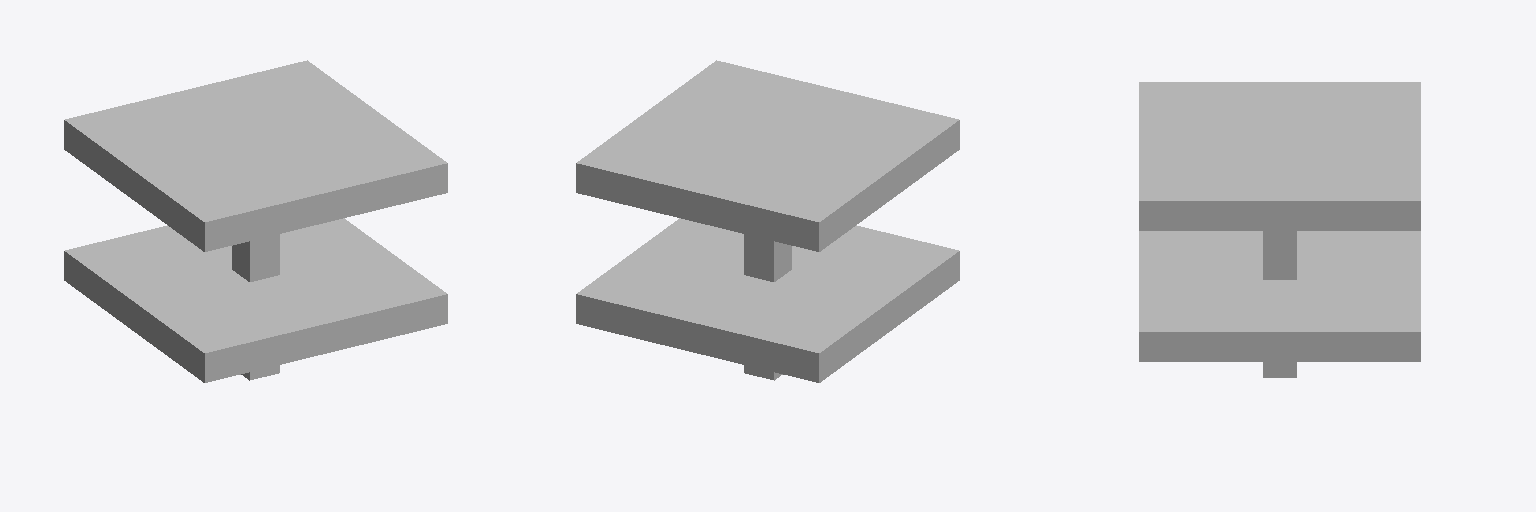
Rendered from Escultura.obj.
3 renders of one model, left to right at view 1: azimuth 30°, elevation 25°; view 2: azimuth 150°, elevation 25°; view 3: azimuth 270°, elevation 25°, orthographic.
Visible parts, largest first — view 1: Escultura; view 2: Escultura; view 3: Escultura.
Boxes of the visible parts, x1=… form: Escultura: x1=64, y1=60, x2=447, y2=382; Escultura: x1=576, y1=60, x2=959, y2=382; Escultura: x1=1139, y1=82, x2=1420, y2=377.
Bounding box in the file's own units: 1.61 × 1.45 × 1.61.